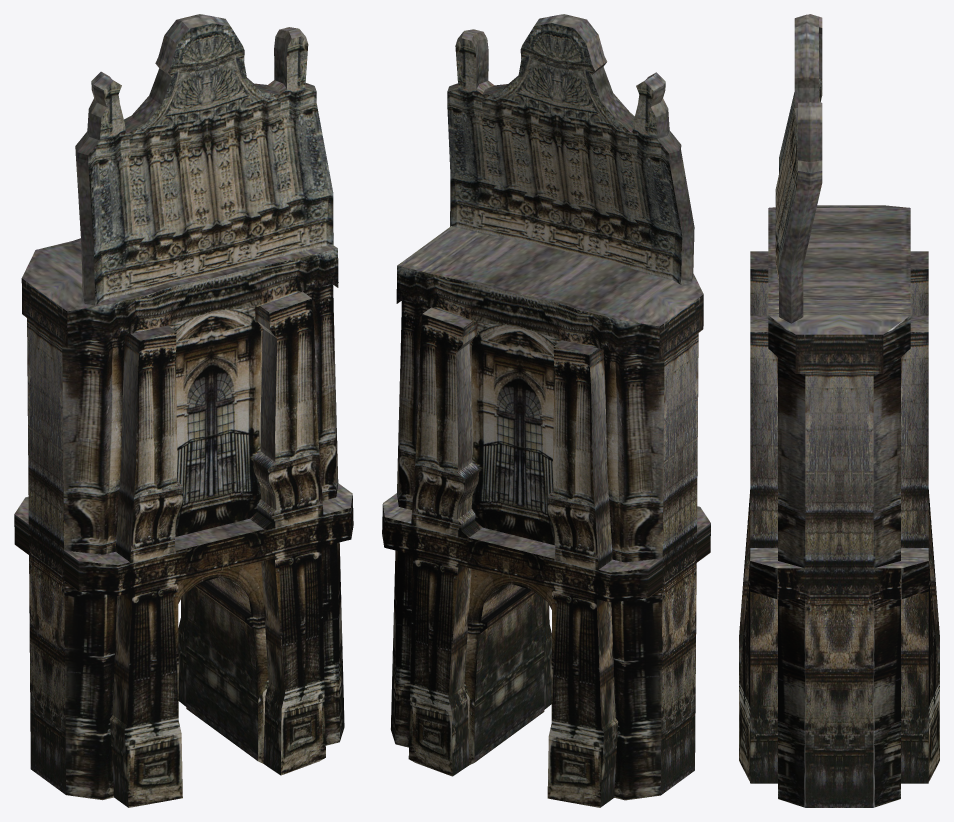
Rendered from gate_main.FBX.
The picture shows the model from 3 angles, left to right: view 1: azimuth 30°, elevation 25°; view 2: azimuth 150°, elevation 25°; view 3: azimuth 270°, elevation 25°; orthographic projection. The views are drawn at different scales.
Parts seen in each view (by area): view 1: gate; view 2: gate; view 3: gate.
Boxes of the visible parts, left/top/right/bottom form: gate: left=14, top=14, right=353, bottom=807; gate: left=382, top=14, right=710, bottom=807; gate: left=739, top=14, right=939, bottom=807.
Size of the model in its own units: 129 by 324 by 82.22.
